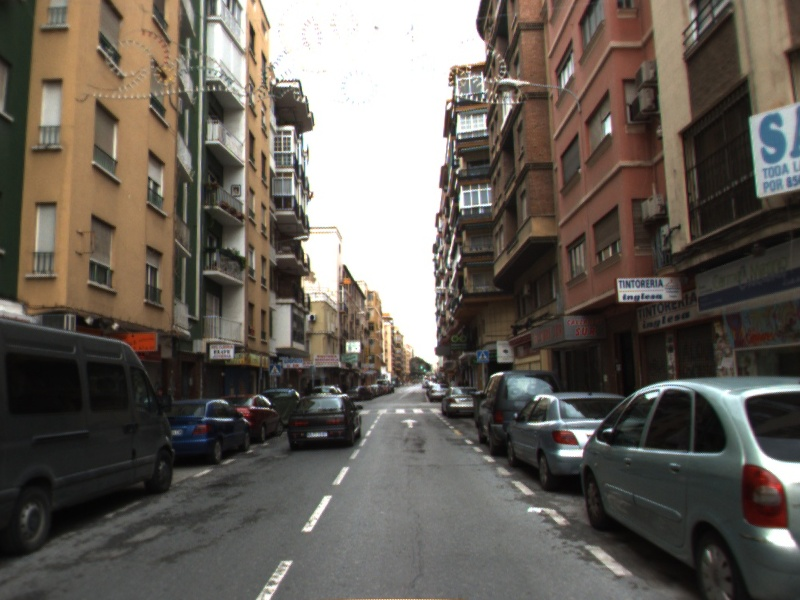STRAIGHT: (399, 417, 420, 429)
